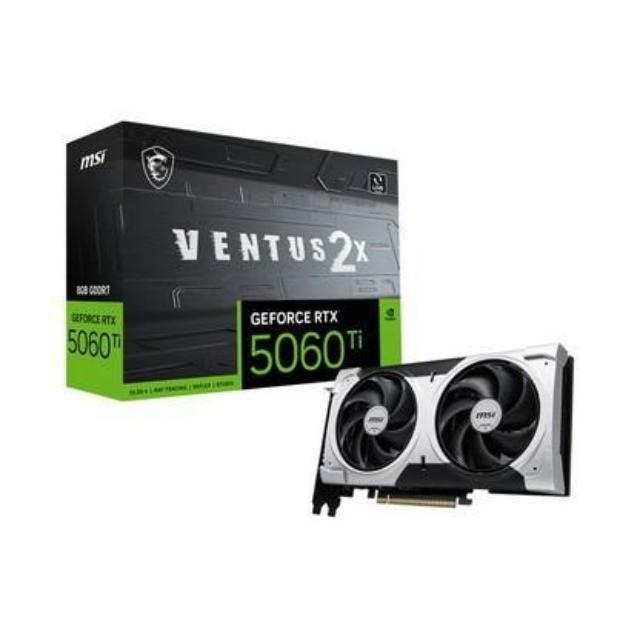GPU: (302, 340, 584, 523)
